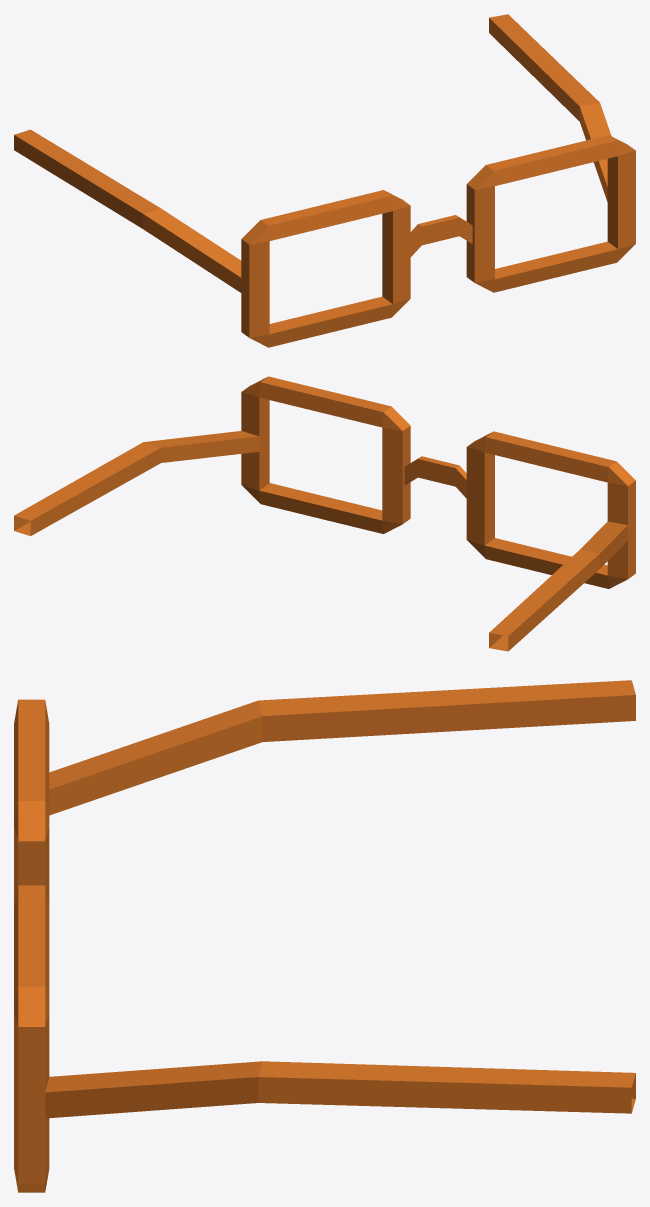
File: Pedestrian_M_Glasses.fbx
3 renders of one model, top to bottom at view 1: azimuth 30°, elevation 25°; view 2: azimuth 150°, elevation 25°; view 3: azimuth 270°, elevation 25°, orthographic. The views are drawn at different scales.
Visible parts, largest first — view 1: Pedestrian_M_Glasses; view 2: Pedestrian_M_Glasses; view 3: Pedestrian_M_Glasses.
Boxes of the visible parts, x1,y1,x2,y2 form: Pedestrian_M_Glasses: [14, 14, 635, 347]; Pedestrian_M_Glasses: [14, 376, 635, 651]; Pedestrian_M_Glasses: [14, 680, 635, 1192].
Size of the model in its own units: 18.7 by 4.41 by 12.06.
